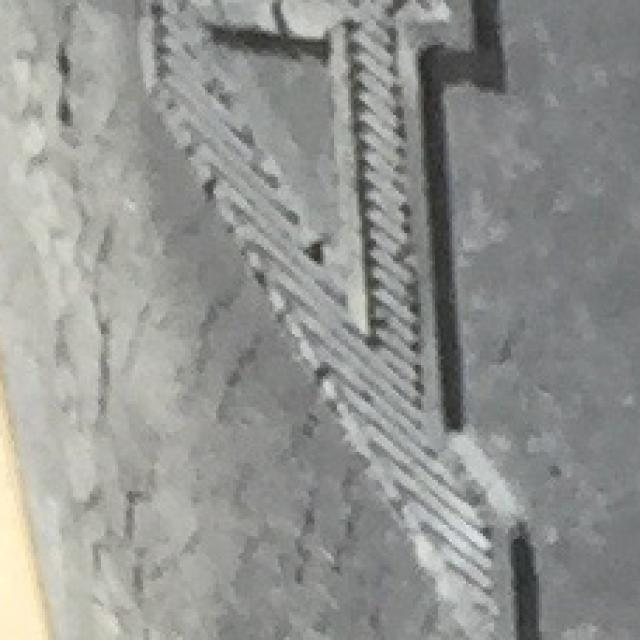Cracks: (0, 0, 477, 637), (482, 308, 542, 393)
